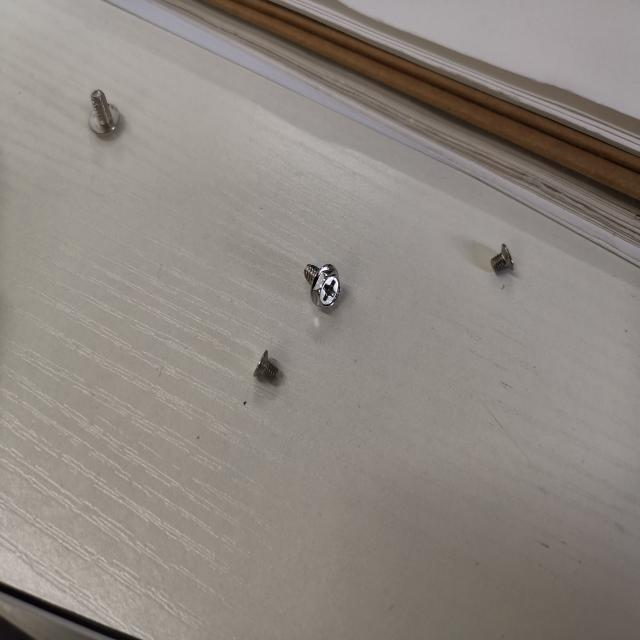Screw: (301, 258, 344, 315), (86, 86, 122, 140), (252, 348, 284, 388), (489, 240, 516, 278)
